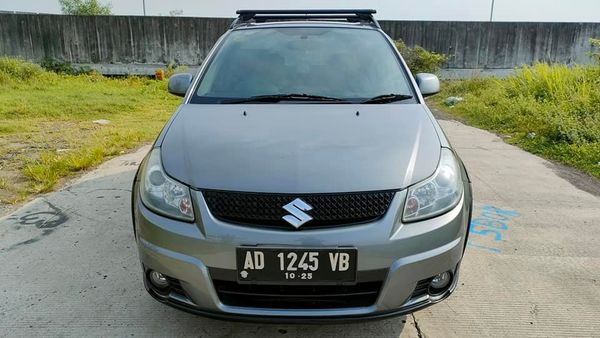plate: (236, 248, 359, 281)
